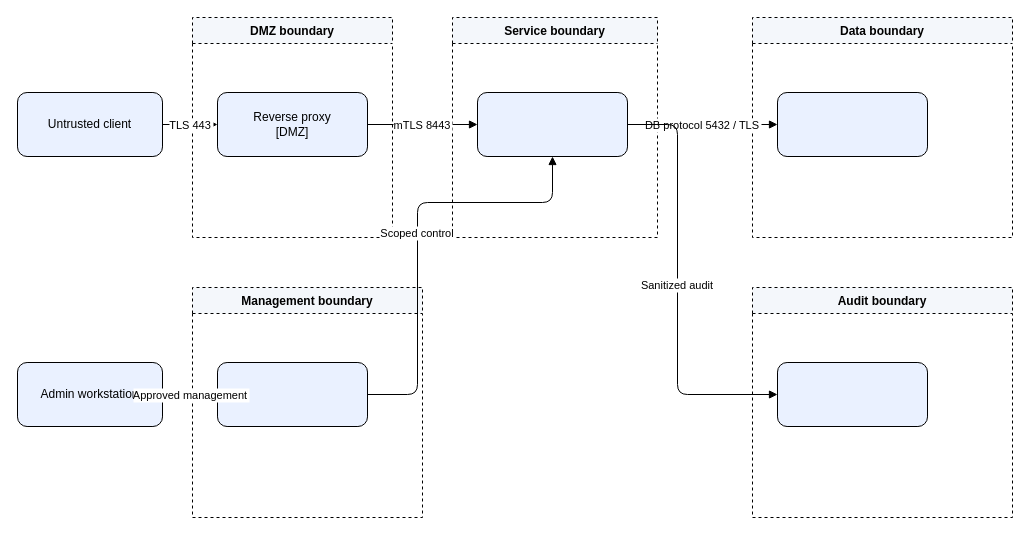
This 1030x535 diagram has some shape labels left out. The shapes that lost their labels are listed below. From the top down, each one's box as (x1, y1, x2, y2) in pixels, then its label:
(476, 92, 628, 156): Application [Service zone]
(776, 92, 928, 156): Database [Data zone]
(216, 362, 368, 426): Management gateway [MFA / policy]
(776, 362, 928, 426): Security logs [Audit zone]
